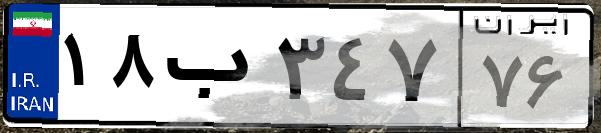1: (57, 26, 110, 100)
3: (270, 28, 330, 110)
4: (330, 28, 385, 110)
6: (525, 38, 570, 115)
7: (385, 28, 445, 110), (475, 38, 525, 113)
8: (110, 28, 158, 98)
ب: (158, 20, 270, 120)
